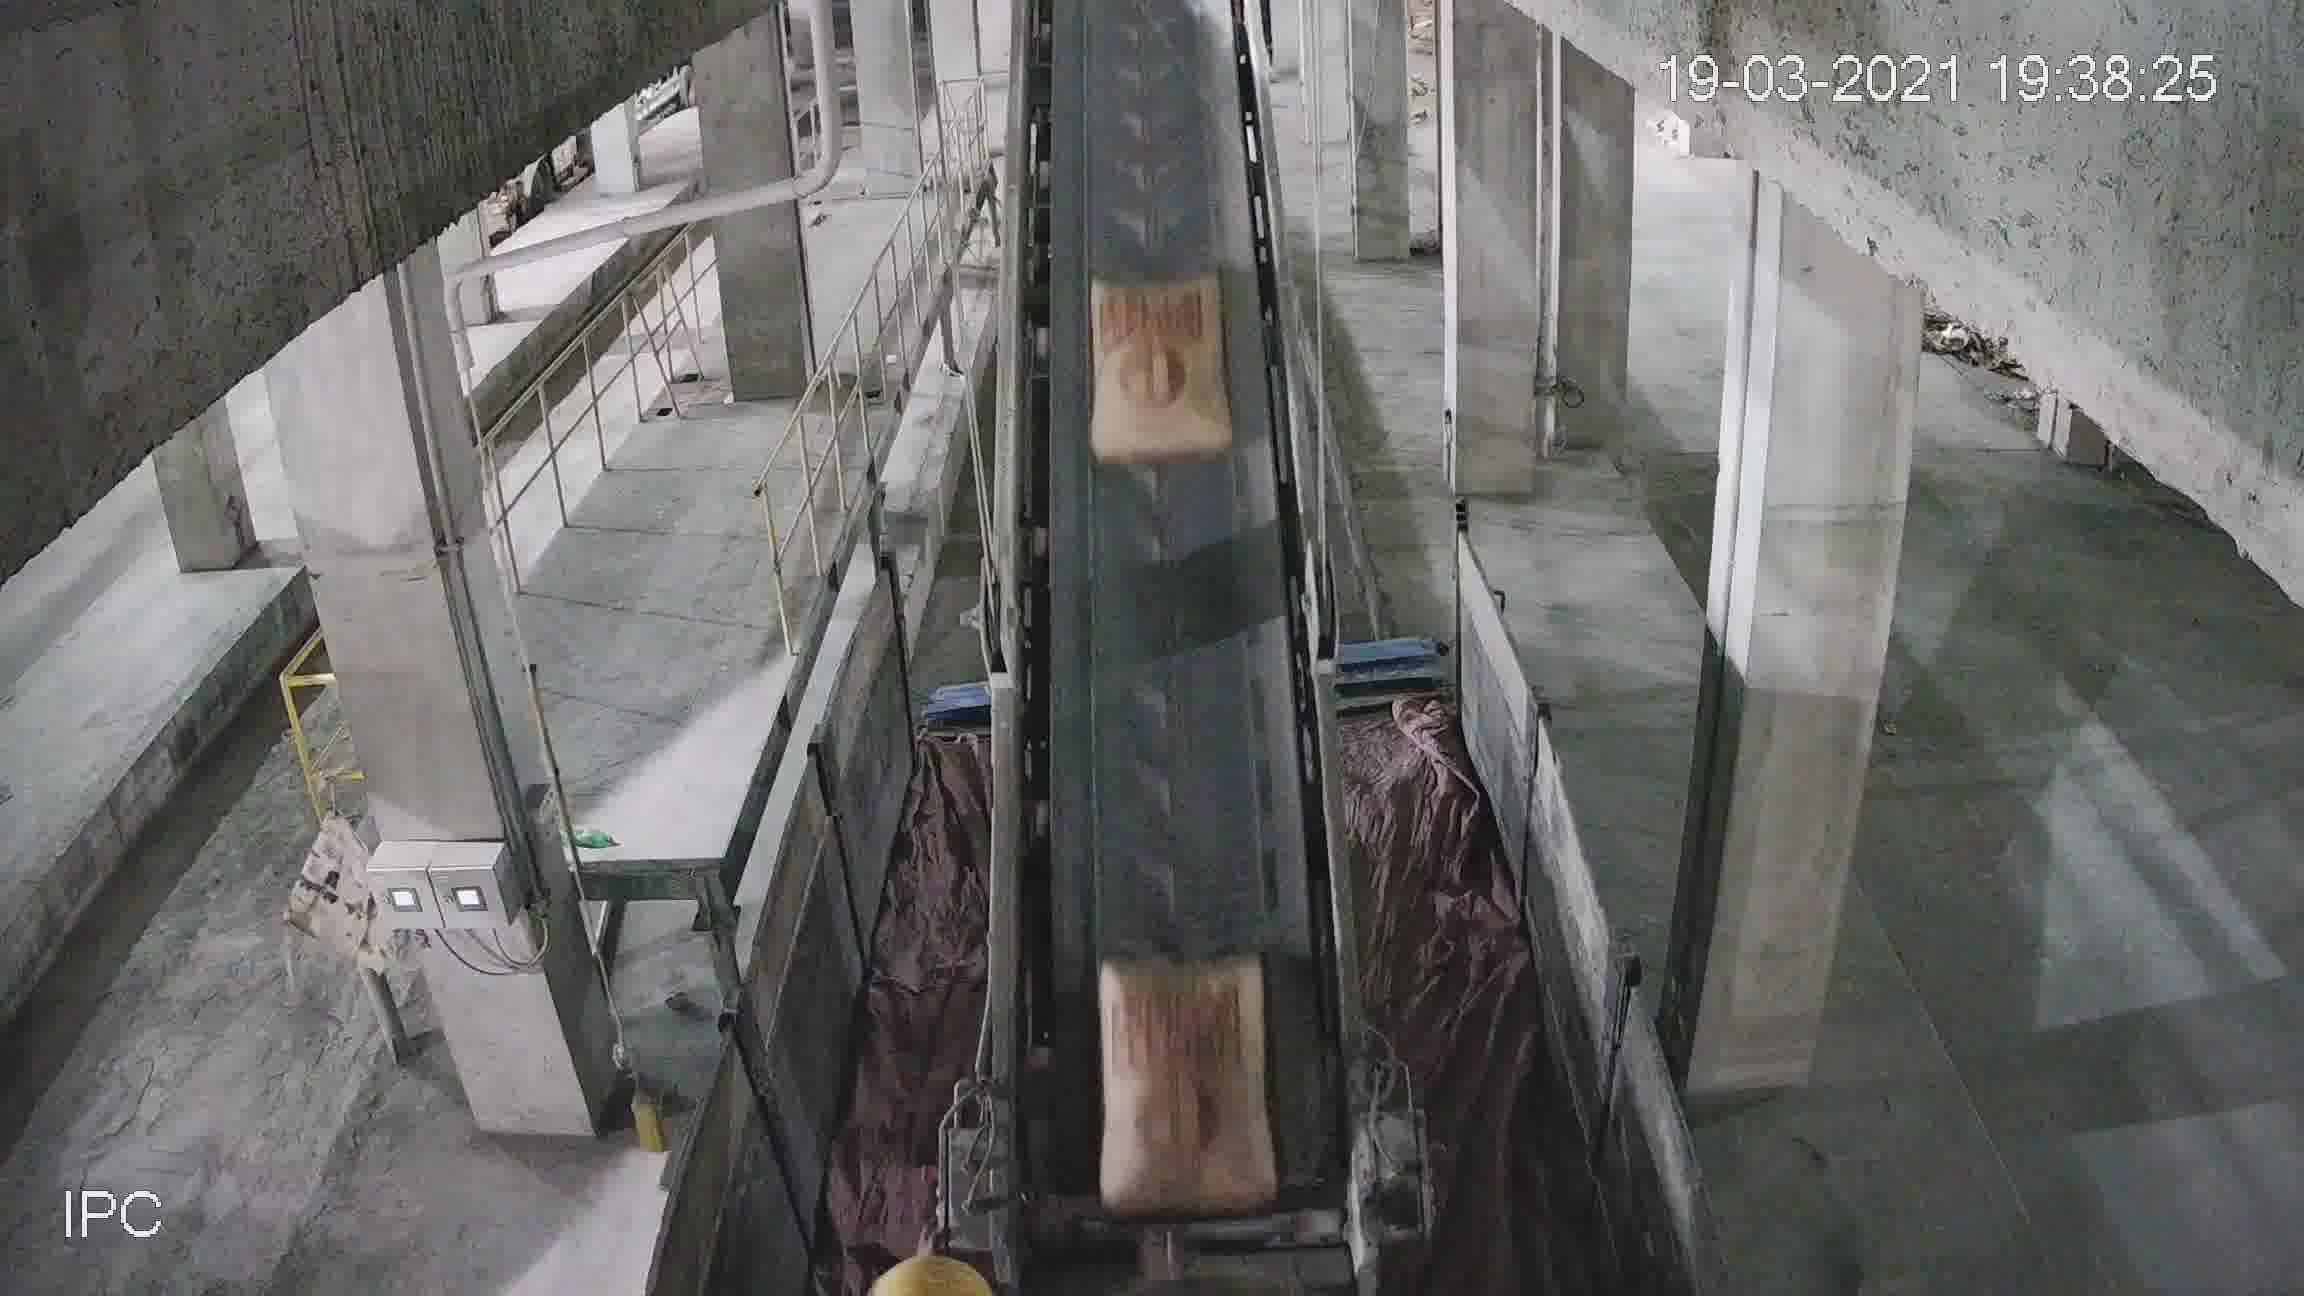bag: (1097, 964, 1264, 1215), (1090, 293, 1222, 457)
belt: (1005, 51, 1313, 1070)
